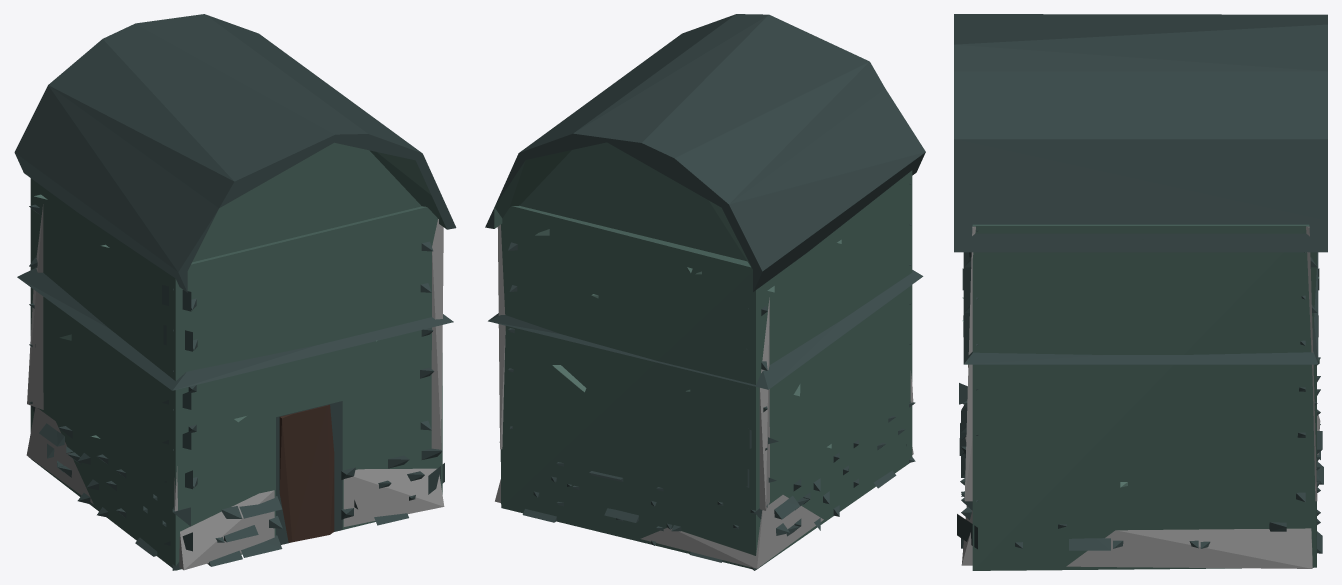
Rendered from 2Story_RoundRoof_lod.glb.
The picture shows the model from 3 angles, left to right: view 1: azimuth 30°, elevation 25°; view 2: azimuth 150°, elevation 25°; view 3: azimuth 270°, elevation 25°; orthographic projection. The views are drawn at different scales.
Parts seen in each view (by area): view 1: 2Story_RoundRoof_Mat; view 2: 2Story_RoundRoof_Mat; view 3: 2Story_RoundRoof_Mat.
Part boxes in pixels (x1=…): 2Story_RoundRoof_Mat: x1=14, y1=14, x2=456, y2=570; 2Story_RoundRoof_Mat: x1=485, y1=14, x2=925, y2=570; 2Story_RoundRoof_Mat: x1=954, y1=14, x2=1327, y2=570.
Bounding box in the file's own units: 2.11 × 2.9 × 2.13.
